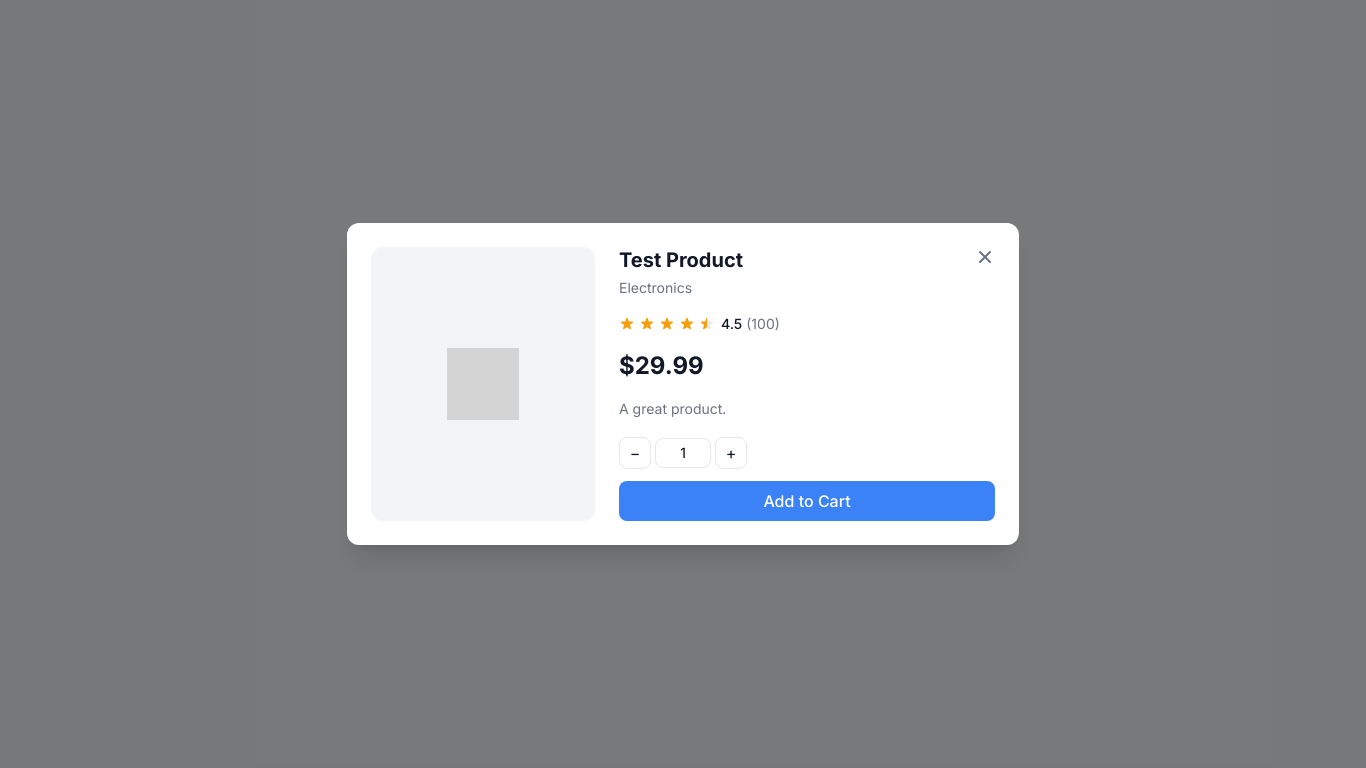
Test: ProductDetailModal › changing quantity via QuantitySelector updates the displayed value
Expected: the heading "Test Product" is shown, [619,248,743,272]
Click the button named "increase quantity".
click(731, 453)  # box [715,437,747,469]
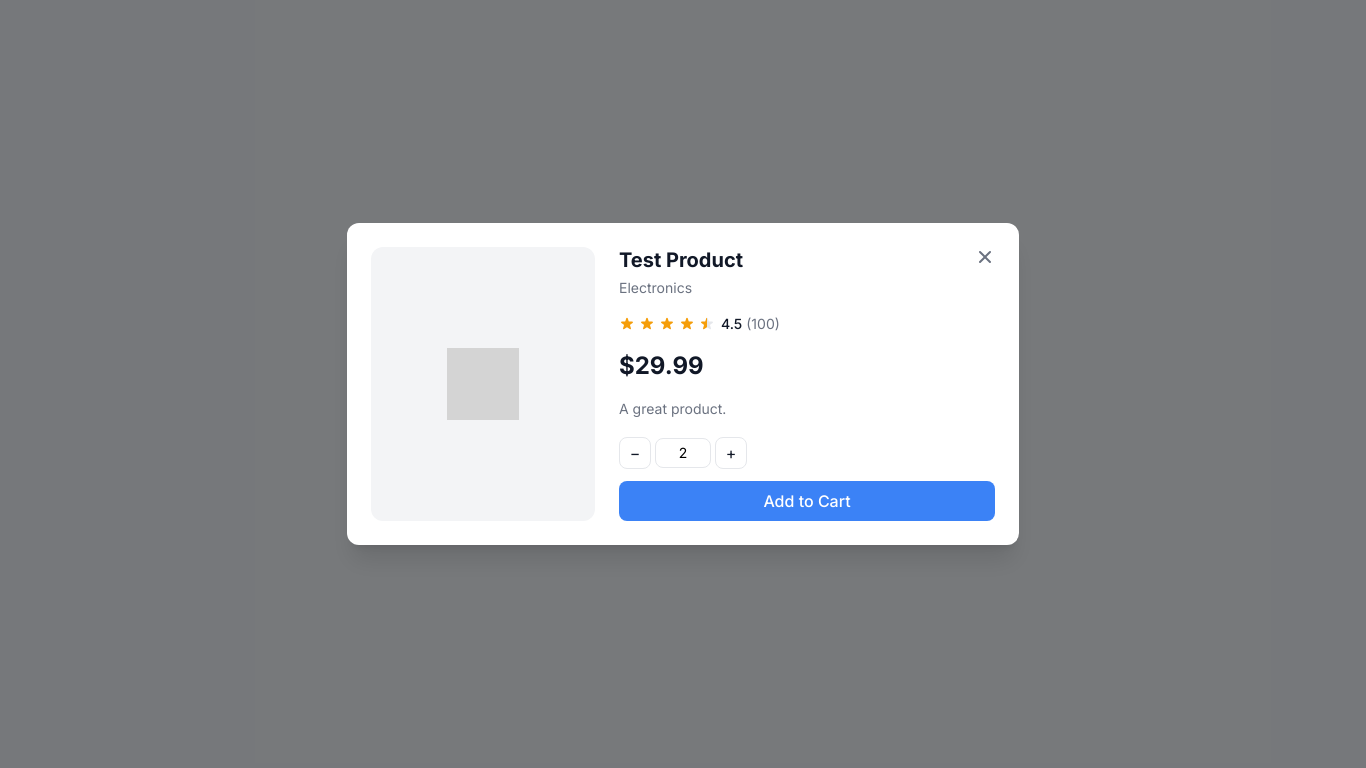
Now the number field holds "2", box [655,438,711,468]
